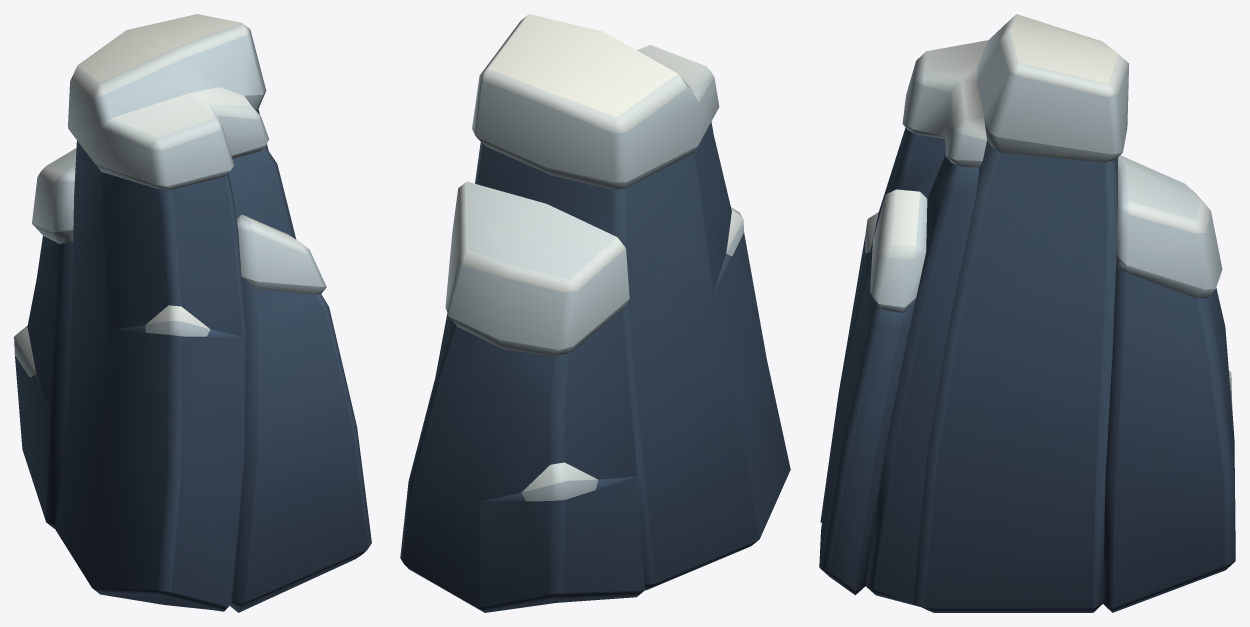
Rendered from rock_snow_014.fbx.
3 renders of one model, left to right at view 1: azimuth 30°, elevation 25°; view 2: azimuth 150°, elevation 25°; view 3: azimuth 270°, elevation 25°, orthographic. The views are drawn at different scales.
Parts seen in each view (by area): view 1: rock_snow_014; view 2: rock_snow_014; view 3: rock_snow_014.
Part boxes in pixels (x1,y1,x2,y2): rock_snow_014: [14, 14, 371, 612]; rock_snow_014: [400, 14, 790, 612]; rock_snow_014: [819, 14, 1235, 612].
Bounding box in the file's own units: 229 × 481 × 328.
